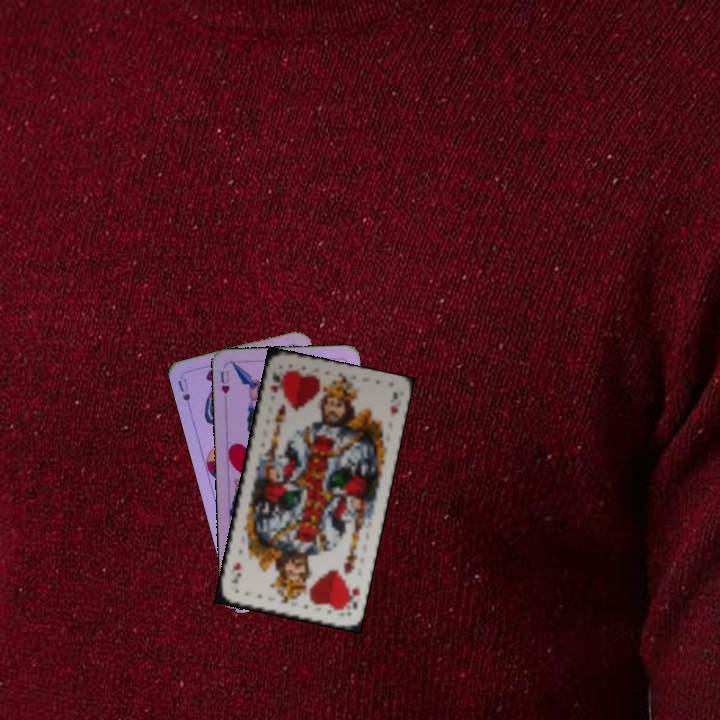HK: (340, 582, 362, 613), (266, 368, 284, 396)
HU: (216, 367, 232, 396)
SU: (174, 374, 194, 415)
